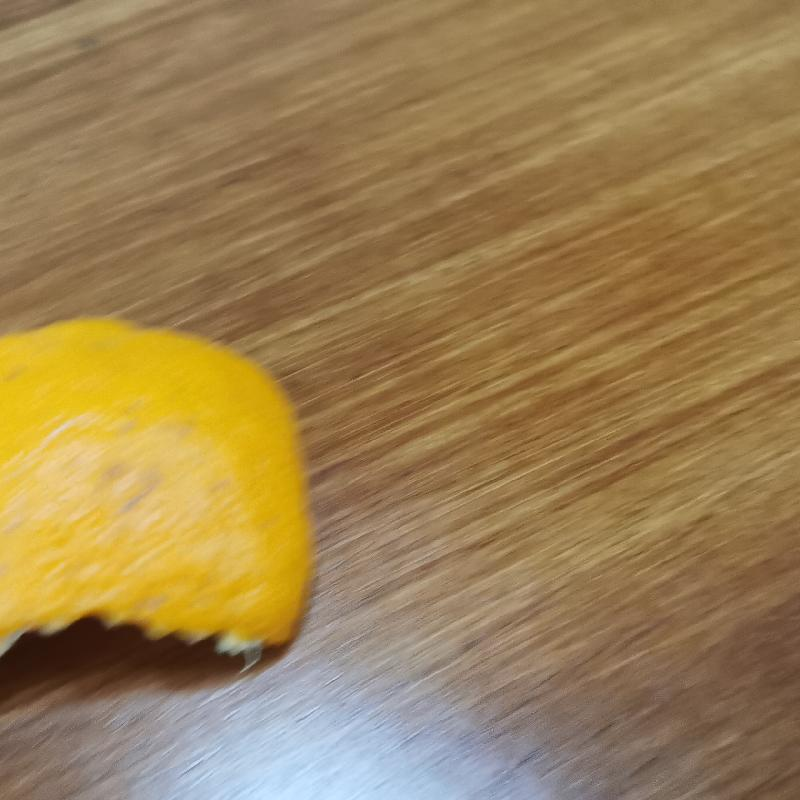orange: (3, 311, 324, 687)
